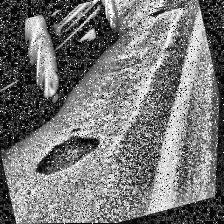pothole: (29, 128, 110, 182)
